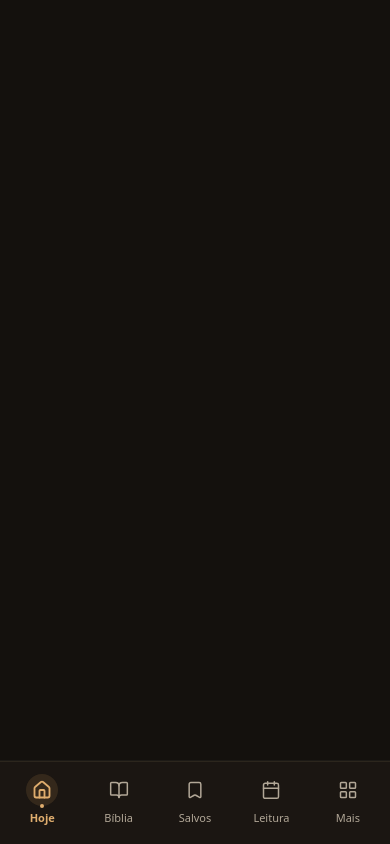
Test case: menu Mais da navegação › abre as outras áreas do app num toque
Click the button with aria-label "Mais opções": [348, 800] box [310,768,386,832]
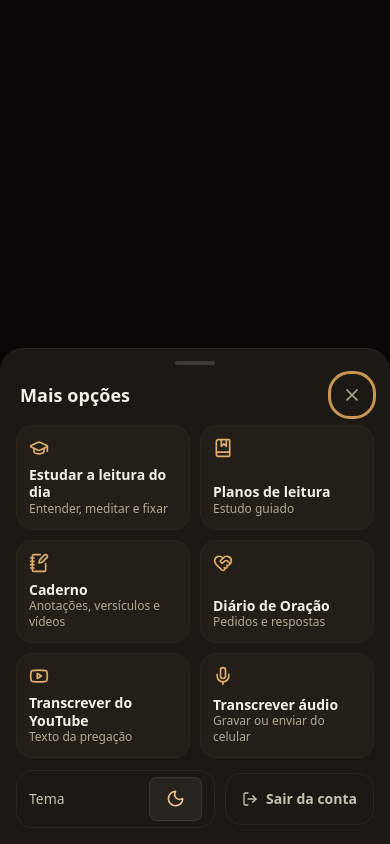
expect the button "Sair da conta" is shown: met, box [225,773,374,825]
